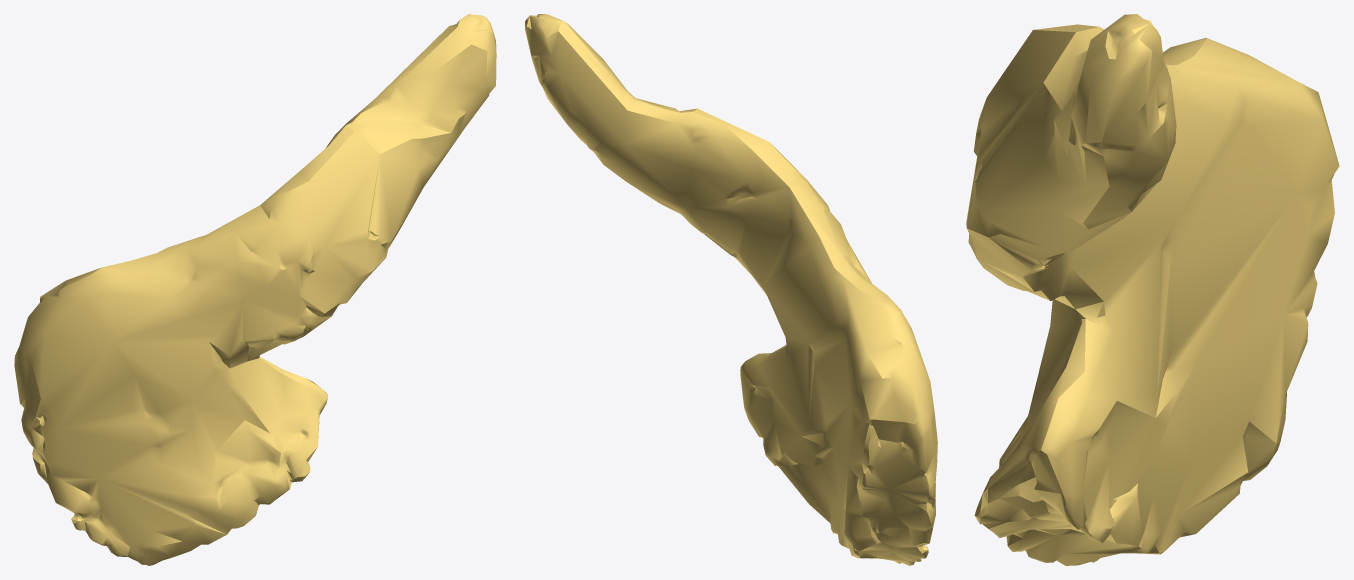
The model's file is pankreas.glb.
The picture shows the model from 3 angles, left to right: view 1: azimuth 30°, elevation 25°; view 2: azimuth 150°, elevation 25°; view 3: azimuth 270°, elevation 25°; orthographic projection. The views are drawn at different scales.
Parts seen in each view (by area): view 1: FJ271_BP7564_FMA7198_Pancreas; view 2: FJ271_BP7564_FMA7198_Pancreas; view 3: FJ271_BP7564_FMA7198_Pancreas.
Part boxes in pixels (left/top/right/bottom): FJ271_BP7564_FMA7198_Pancreas: left=14, top=14, right=496, bottom=565; FJ271_BP7564_FMA7198_Pancreas: left=525, top=14, right=937, bottom=565; FJ271_BP7564_FMA7198_Pancreas: left=966, top=14, right=1339, bottom=565.
Size of the model in its own units: 0.2381 by 0.2413 by 0.0982.
